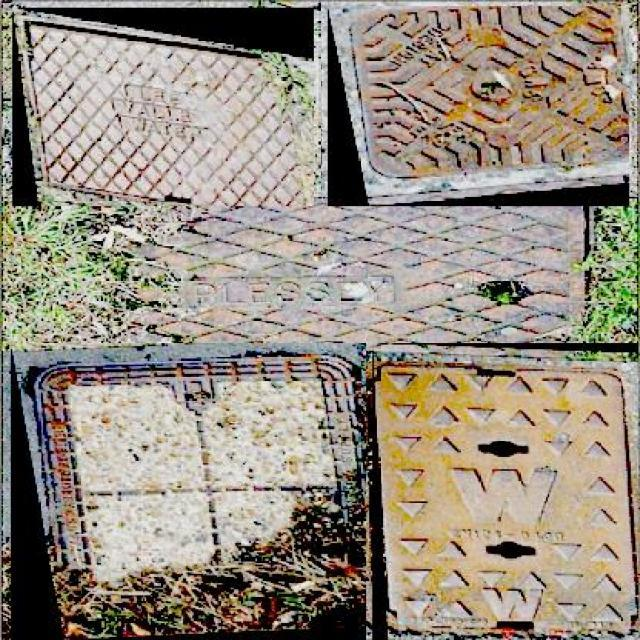Manhole: (11, 343, 367, 640), (372, 343, 638, 640), (118, 205, 584, 345), (328, 6, 629, 206), (12, 8, 314, 206)
